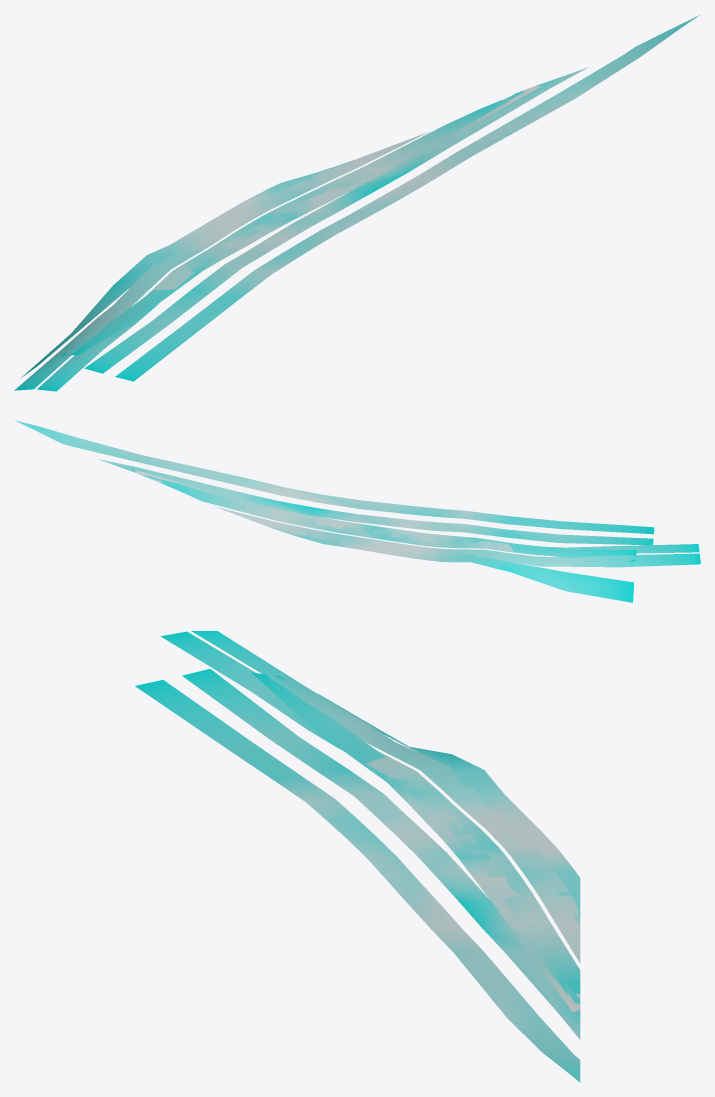
3 renders of one model, top to bottom at view 1: azimuth 30°, elevation 25°; view 2: azimuth 150°, elevation 25°; view 3: azimuth 270°, elevation 25°, orthographic. The views are drawn at different scales.
Parts seen in each view (by area): view 1: SpaceCenter_Long3_GenerateRoad_Sand_TireTracks_Narrow_Mesh_x; view 2: SpaceCenter_Long3_GenerateRoad_Sand_TireTracks_Narrow_Mesh_x; view 3: SpaceCenter_Long3_GenerateRoad_Sand_TireTracks_Narrow_Mesh_x.
Part boxes in pixels (x1,y1,x2,y2): SpaceCenter_Long3_GenerateRoad_Sand_TireTracks_Narrow_Mesh_x: (14, 14, 700, 391); SpaceCenter_Long3_GenerateRoad_Sand_TireTracks_Narrow_Mesh_x: (14, 420, 700, 602); SpaceCenter_Long3_GenerateRoad_Sand_TireTracks_Narrow_Mesh_x: (135, 631, 580, 1082).
Size of the model in its own units: 296 by 916 by 131.
